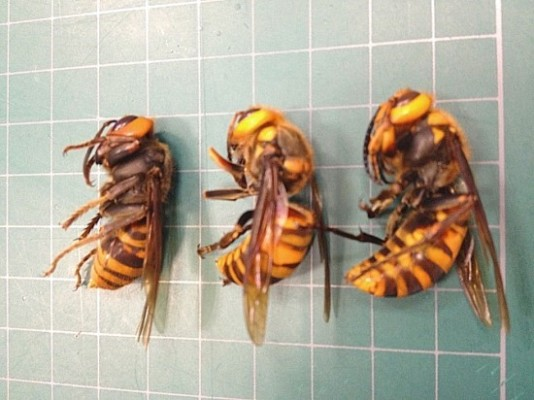asian_giant_hornet: (343, 85, 481, 298), (210, 105, 322, 290), (73, 113, 175, 292)
